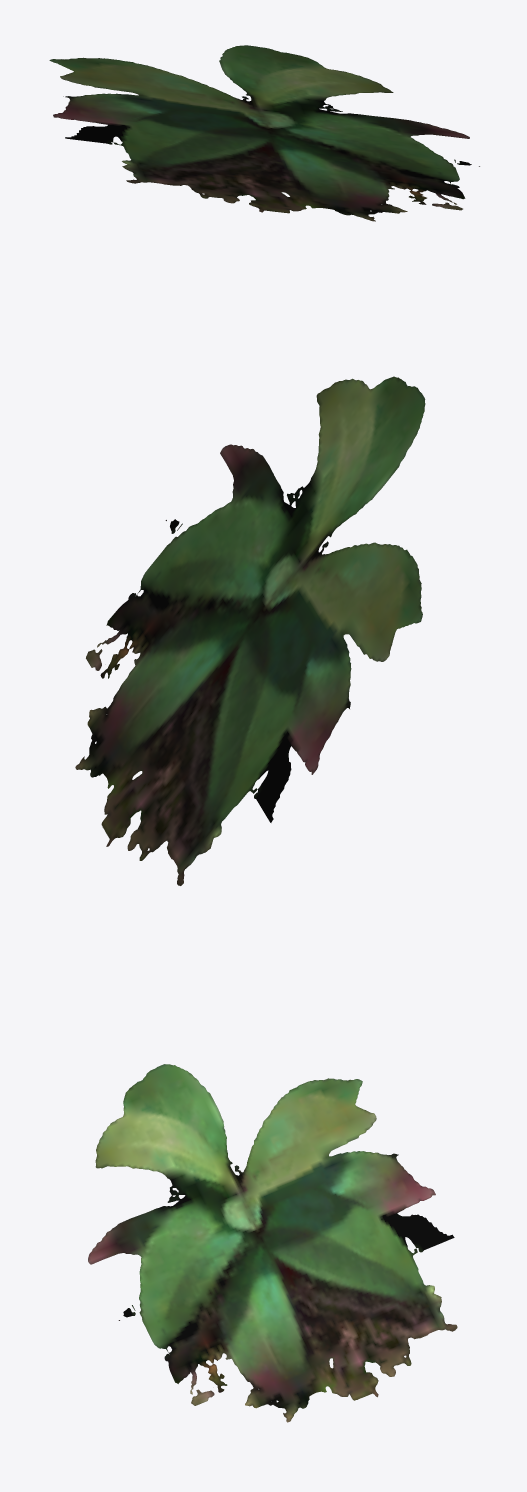
File: dilinggen01_53_50_9335out.fbx
3 renders of one model, top to bottom at view 1: azimuth 30°, elevation 25°; view 2: azimuth 150°, elevation 25°; view 3: azimuth 270°, elevation 25°, orthographic. The views are drawn at different scales.
Parts seen in each view (by area): view 1: dilinggen01; view 2: dilinggen01; view 3: dilinggen01.
Boxes of the visible parts, left/top/right/bottom form: dilinggen01: left=49, top=45, right=479, bottom=221; dilinggen01: left=75, top=376, right=425, bottom=885; dilinggen01: left=88, top=1064, right=457, bottom=1422.
Bounding box in the file's own units: 1.87 × 1.18 × 1.89.
